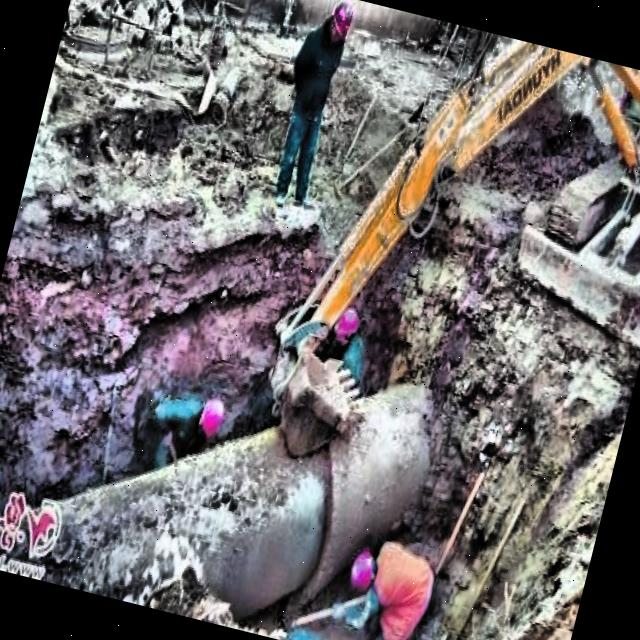helmet: (189, 389, 233, 443), (346, 544, 384, 594), (328, 303, 363, 354), (324, 0, 359, 45)
